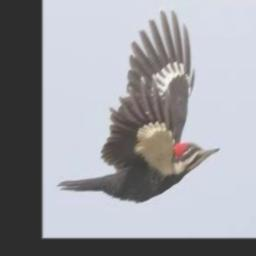Woodpecker: (57, 10, 221, 201)
